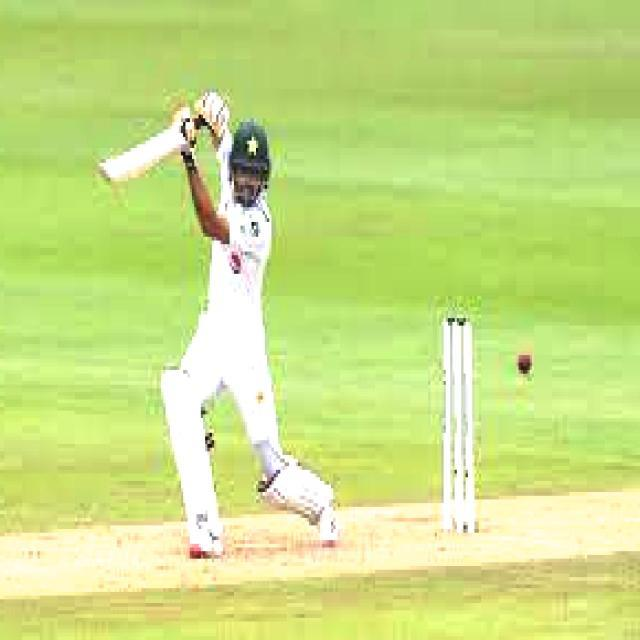bat: (98, 123, 192, 186)
toe: (99, 163, 116, 186)
